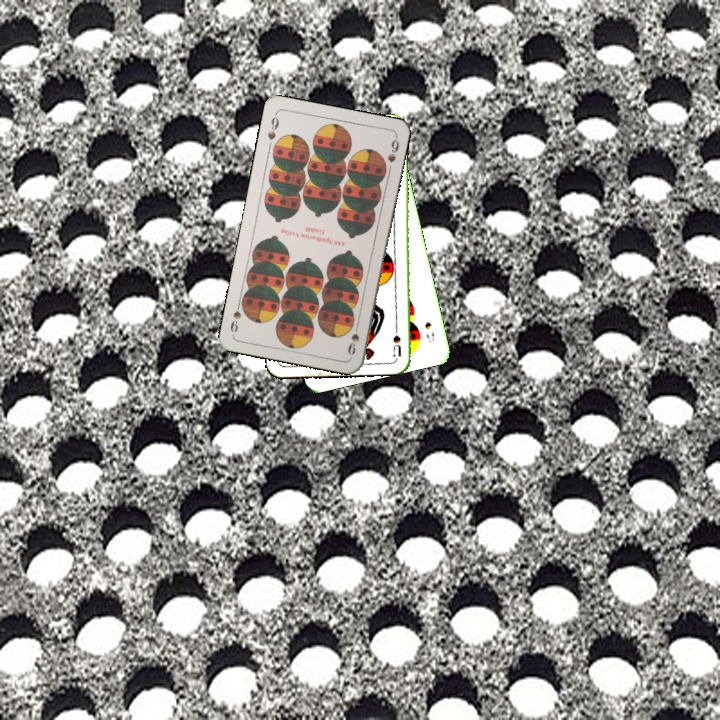S8: (421, 318, 437, 346)
S9: (344, 318, 362, 358), (263, 110, 281, 143)
SU: (389, 317, 404, 358)
